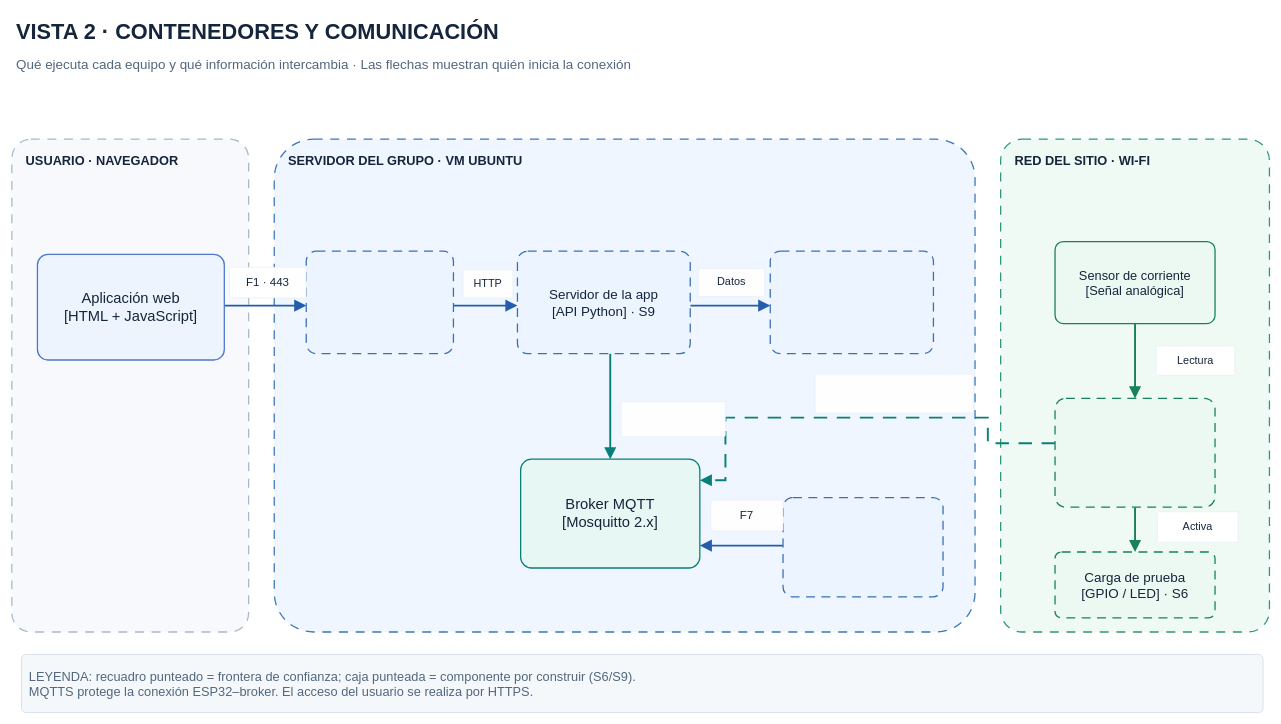
This 1281x724 diagram has some shape labels left out. Here are the shapes that lost their labels. From the top down, the box of each, then its label:
(305, 250, 454, 354): Acceso web [Nginx / HTTPS] · S9
(769, 250, 934, 354): Base de datos [SQLite] · S9
(814, 373, 973, 413): F3–F5 · MQTTS Puerto 8883
(620, 401, 725, 437): F2 · MQTT
(1054, 397, 1215, 508): Controlador ESP32 [MicroPython] · S6
(782, 497, 943, 597): Panel de monitoreo [Node-RED] · S9
